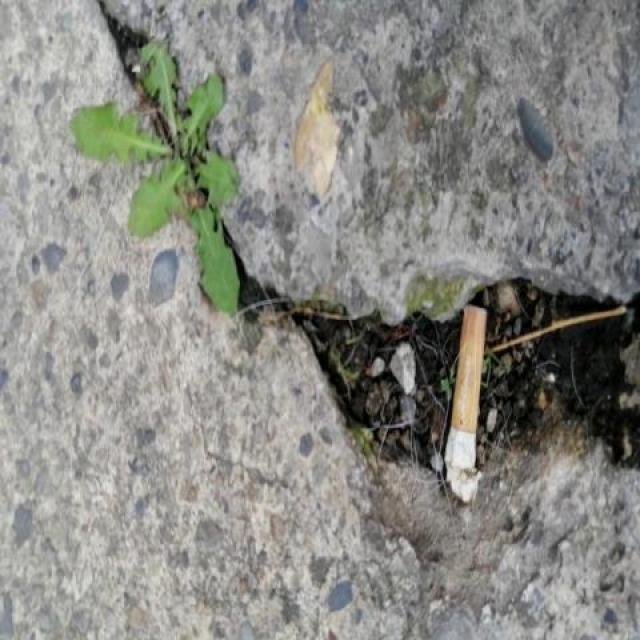non-organic waste: (439, 299, 492, 512)
